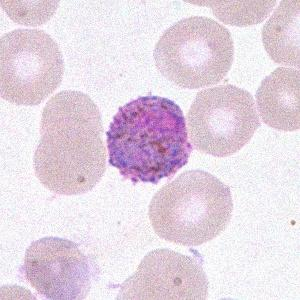Infected: (107, 96, 189, 187)
Uninfected: (149, 170, 232, 245), (154, 17, 234, 89), (34, 119, 108, 193), (187, 84, 258, 155), (0, 30, 62, 104), (26, 236, 89, 300), (40, 91, 106, 145)
